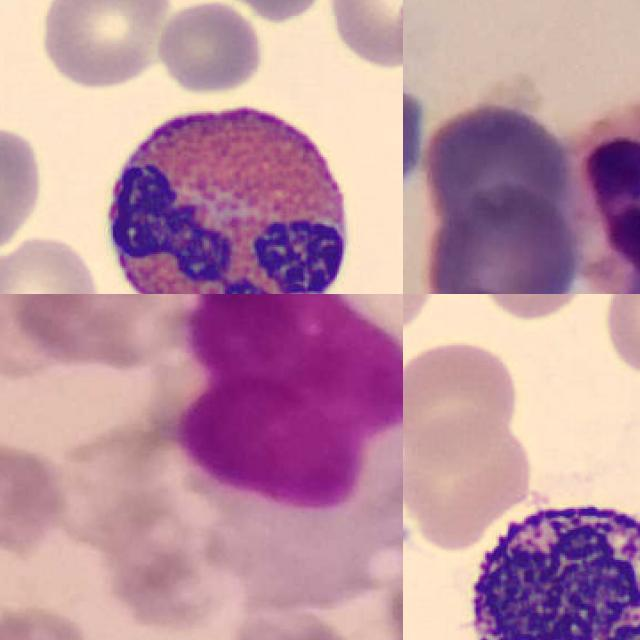Basophil: (446, 480, 640, 640)
Eosinophil: (91, 88, 363, 294)
Monocyte: (176, 294, 403, 565)
Neutrophil: (573, 77, 640, 294)
RBC: (403, 334, 520, 461), (34, 0, 173, 91), (154, 0, 264, 97), (0, 234, 106, 294), (0, 121, 47, 250), (326, 0, 403, 70), (474, 294, 588, 325), (600, 294, 640, 380), (216, 0, 335, 26), (403, 294, 440, 345)
